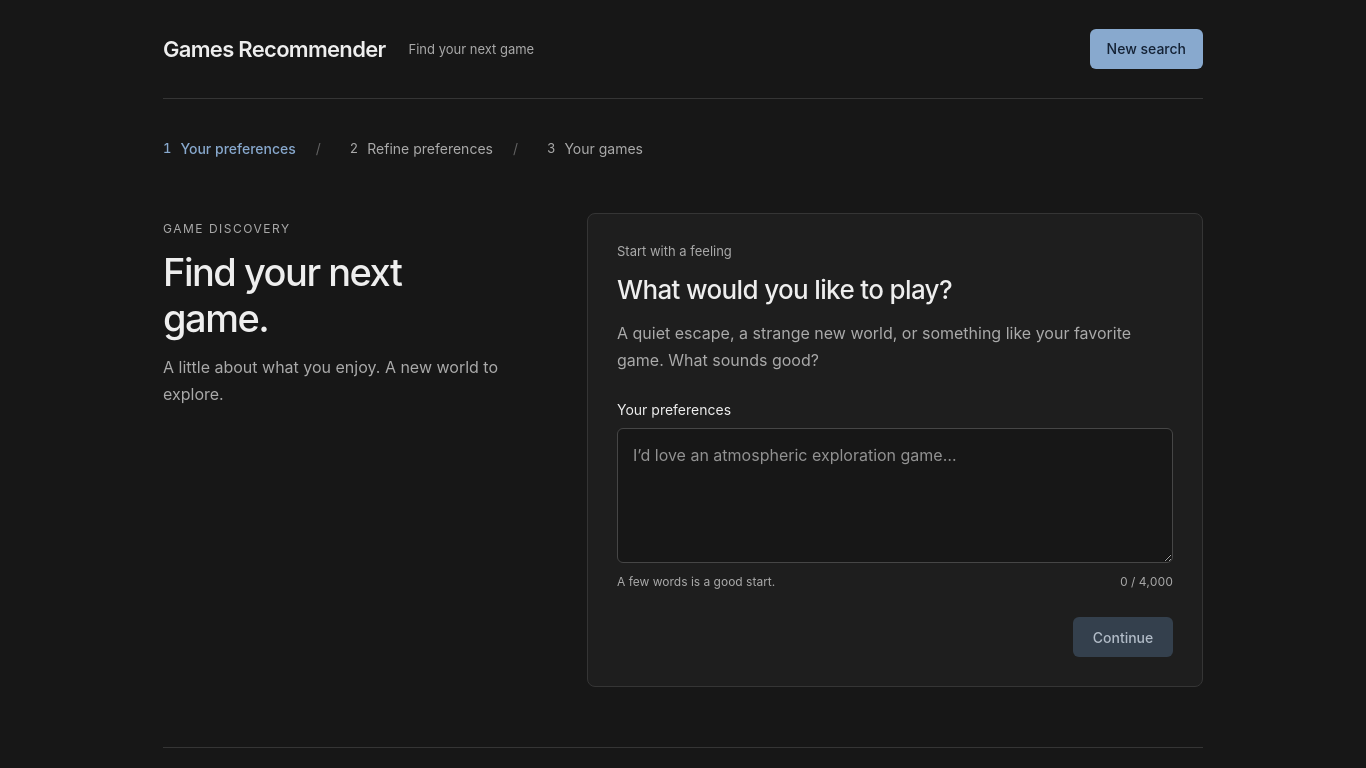
Scenario: Guided Games Recommender › displays numeric game prices in US dollars
The width and height of the screenshot is (1366, 768).
Type "A fighting game." into the text box.
click(895, 496); type("A fighting game.")  # box [617,428,1173,564]
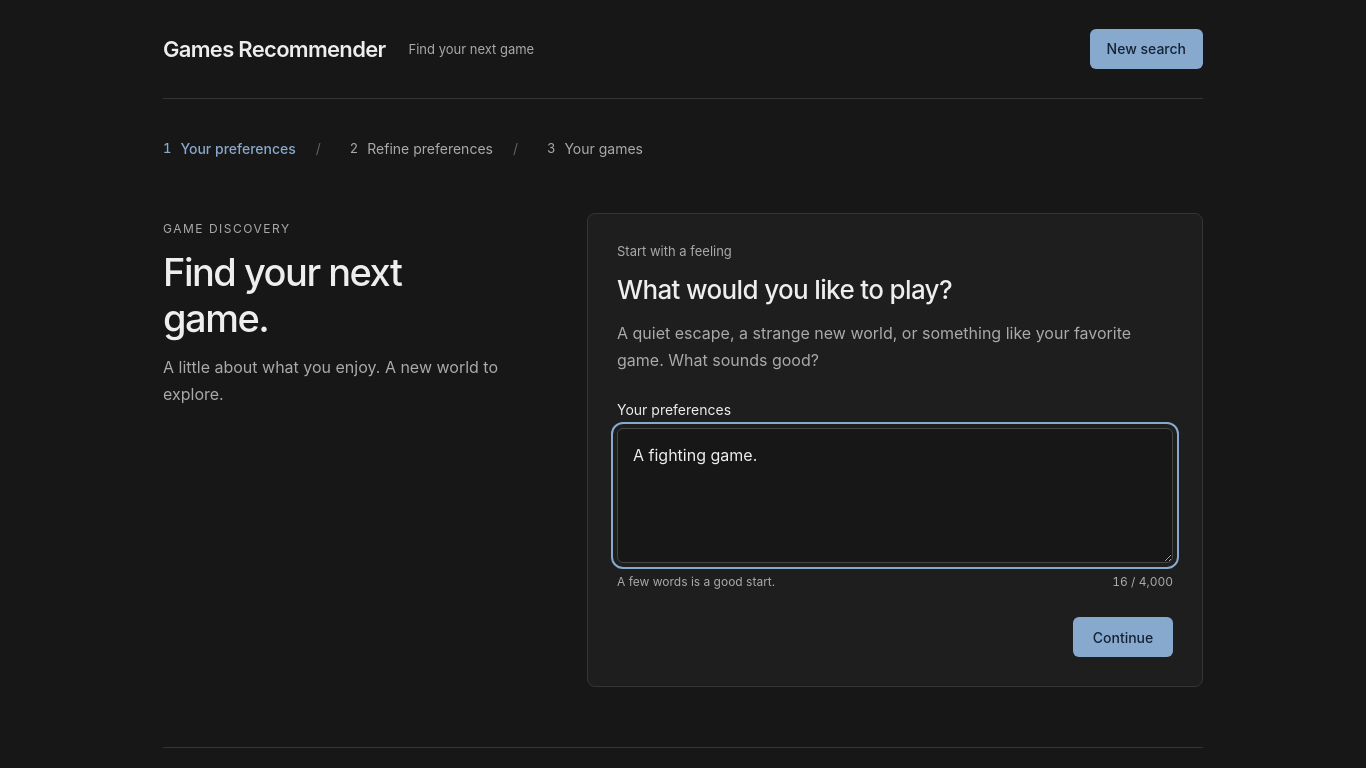
Click the button "Continue".
click(1123, 638)  # box [1073,618,1173,658]
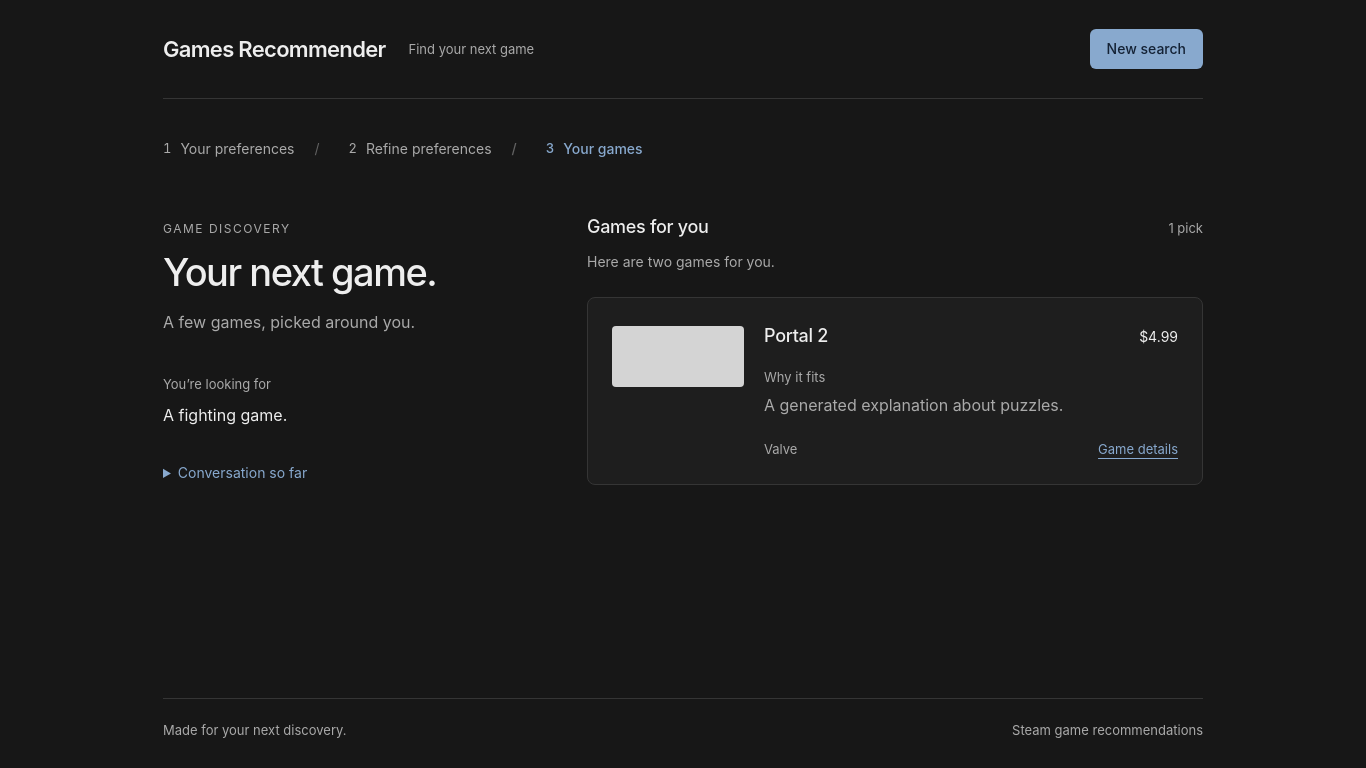
Now the text "$4.99" is shown, box [1139,328,1178,345]
